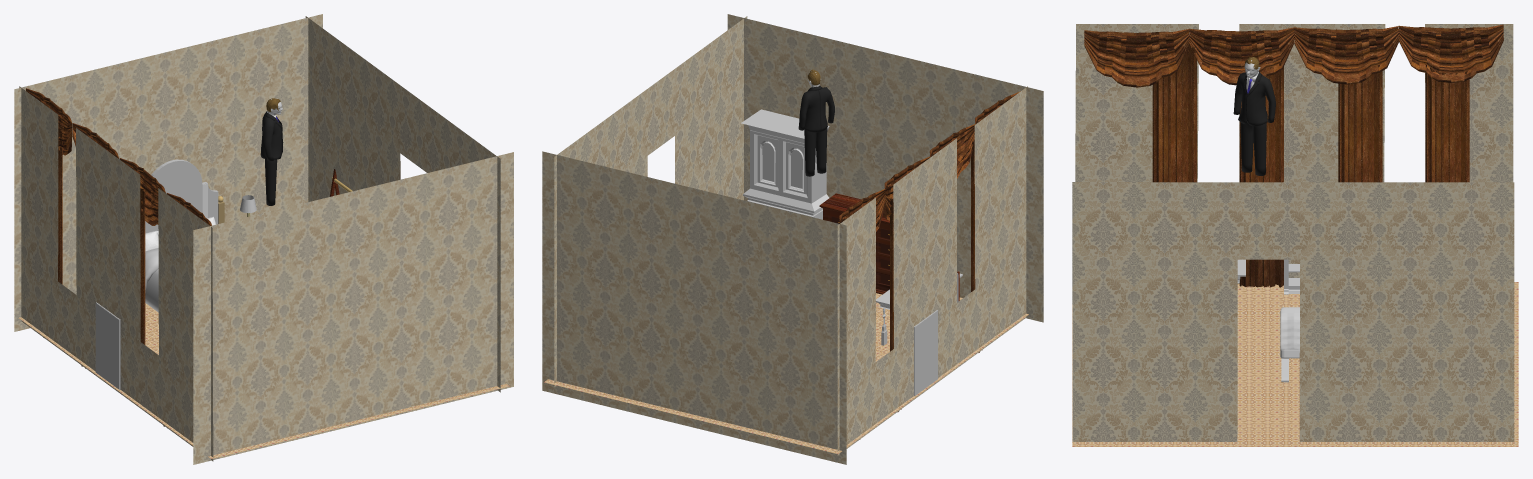
File: detective_room.fbx
3 renders of one model, left to right at view 1: azimuth 30°, elevation 25°; view 2: azimuth 150°, elevation 25°; view 3: azimuth 270°, elevation 25°, orthographic. The views are drawn at different scales.
Parts seen in each view (by area): view 1: Cube.004, Cube.006, Cube.007, Plane.002, Plane.001, Circle.001, Cube.932, suitdone.001, Plane.102, Plane.000, Plane.005; view 2: Cube.004, Cube.006, Cube.007, wardrobe.001, Plane.001, suitdone.001, Plane.002, Cube.932, Cube.022, Plane.003, Plane.004; view 3: Cube.007, Cube.006, Plane.002, Plane.001, Plane.003, Plane.005, Plane.004, suitdone.001, Plane.102, Cube.020.
Part boxes in pixels (bbox=[...]): Cube.004: bbox=[14, 14, 513, 464]; Cube.006: bbox=[19, 86, 213, 461]; Cube.007: bbox=[305, 16, 500, 392]; Plane.002: bbox=[26, 88, 211, 225]; Plane.001: bbox=[19, 303, 509, 458]; Circle.001: bbox=[145, 159, 218, 232]; Cube.932: bbox=[95, 302, 120, 389]; suitdone.001: bbox=[260, 98, 283, 205]; Plane.102: bbox=[140, 188, 145, 344]; Plane.000: bbox=[145, 248, 158, 312]; Plane.005: bbox=[43, 128, 62, 337]; Cube.004: bbox=[542, 14, 1043, 464]; Cube.006: bbox=[837, 86, 1027, 455]; Cube.007: bbox=[554, 16, 747, 386]; wardrobe.001: bbox=[741, 109, 829, 219]; Plane.001: bbox=[544, 293, 1028, 453]; suitdone.001: bbox=[798, 69, 834, 176]; Plane.002: bbox=[839, 91, 1020, 231]; Cube.932: bbox=[914, 310, 937, 395]; Cube.022: bbox=[819, 193, 889, 294]; Plane.003: bbox=[971, 140, 982, 352]; Plane.004: bbox=[890, 198, 901, 412]; Cube.007: bbox=[1072, 182, 1514, 441]; Cube.006: bbox=[1075, 24, 1513, 283]; Plane.002: bbox=[1084, 24, 1503, 87]; Plane.001: bbox=[1072, 282, 1518, 446]; Plane.003: bbox=[1152, 45, 1196, 182]; Plane.005: bbox=[1425, 64, 1469, 182]; Plane.004: bbox=[1338, 64, 1382, 182]; suitdone.001: bbox=[1233, 57, 1275, 175]; Plane.102: bbox=[1239, 61, 1283, 287]; Cube.020: bbox=[1280, 307, 1299, 358].
Size of the model in its own units: 402 by 336 by 428.
